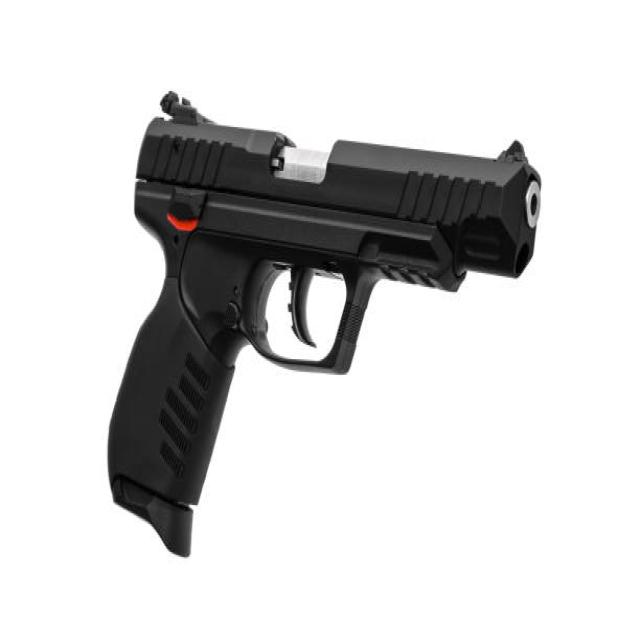pistol: (100, 91, 566, 571)
